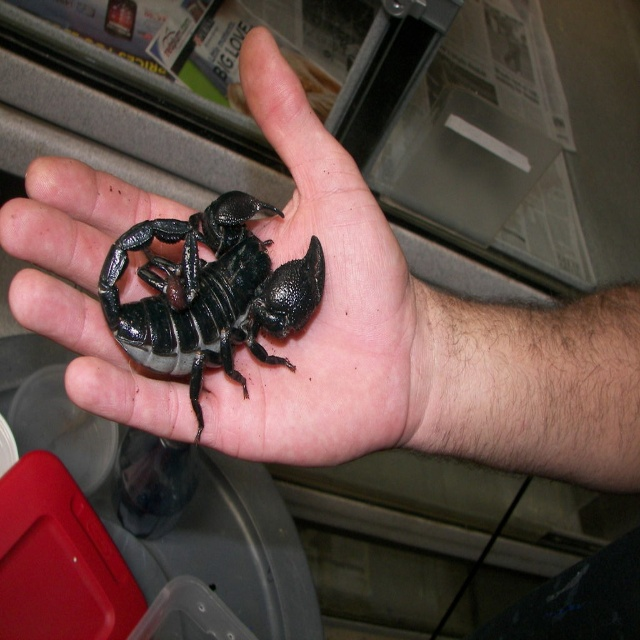Scorpion: (94, 185, 325, 452)
